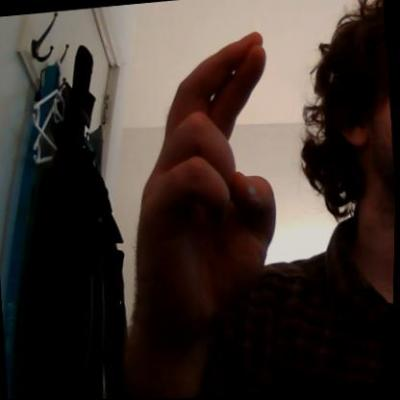hand: (104, 30, 291, 339)
